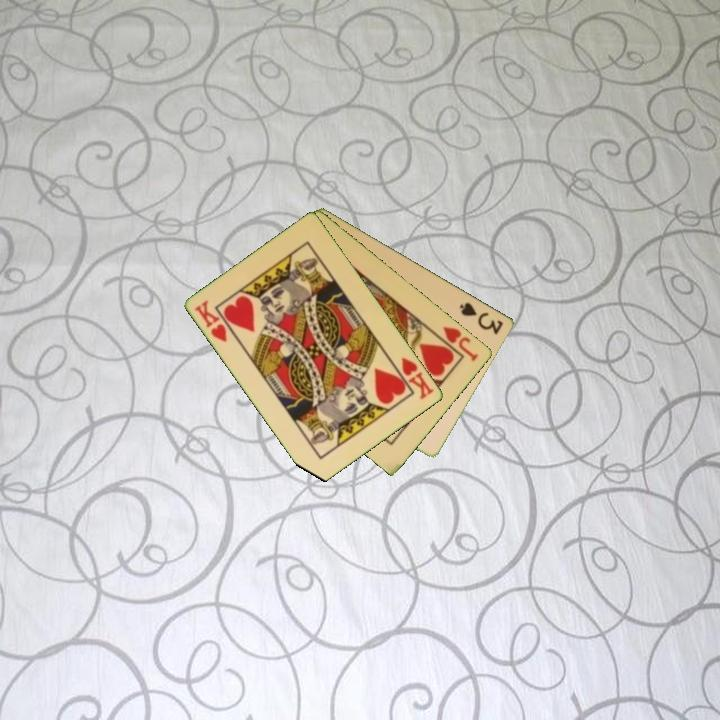3s: (456, 298, 507, 337)
Jh: (440, 323, 482, 364)
Kh: (389, 354, 437, 402), (191, 296, 231, 345)
